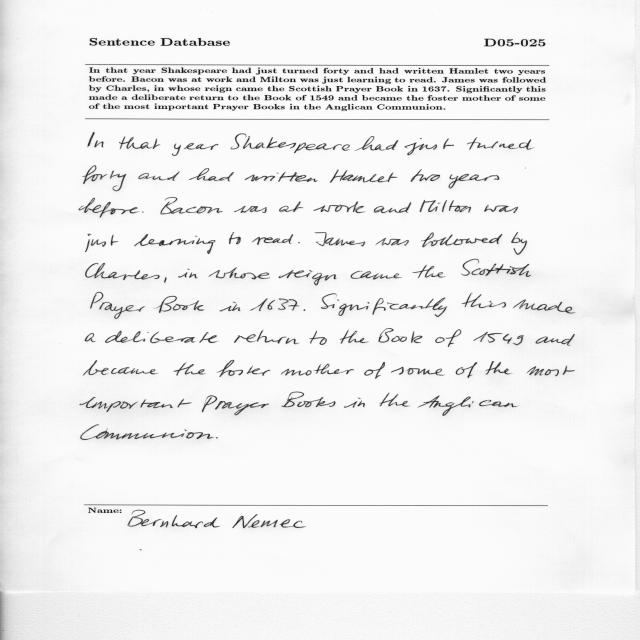word: (321, 293, 448, 317), (230, 134, 350, 154), (418, 395, 518, 416), (81, 425, 213, 440), (80, 397, 192, 412), (134, 234, 216, 254), (91, 292, 145, 319), (105, 331, 217, 343), (202, 396, 269, 416), (461, 259, 531, 277), (86, 263, 160, 280), (421, 233, 502, 248), (79, 198, 139, 218), (83, 360, 158, 376), (83, 166, 126, 192), (160, 198, 223, 215), (330, 169, 397, 183), (217, 360, 270, 377), (467, 137, 534, 150), (279, 270, 337, 285), (513, 300, 575, 314), (234, 331, 299, 344), (405, 138, 454, 155), (156, 296, 204, 313), (282, 392, 336, 407), (281, 364, 354, 375), (209, 267, 270, 280), (316, 232, 366, 247), (245, 172, 318, 182), (449, 174, 500, 188), (473, 332, 524, 345), (355, 136, 399, 151), (379, 328, 423, 343), (250, 298, 300, 311), (313, 201, 365, 213), (462, 294, 506, 308), (420, 200, 471, 212), (172, 143, 218, 156), (85, 234, 118, 252), (189, 168, 234, 181), (119, 136, 160, 149), (527, 366, 575, 377), (535, 334, 575, 346), (436, 329, 462, 347), (252, 234, 293, 245), (379, 393, 410, 407), (391, 367, 445, 375), (173, 363, 206, 376), (138, 171, 180, 181), (413, 265, 445, 278), (351, 271, 402, 279), (374, 202, 411, 213), (340, 330, 369, 344), (411, 169, 440, 182), (511, 232, 527, 255), (486, 361, 512, 375), (364, 362, 385, 379), (456, 362, 477, 378), (484, 205, 518, 213), (279, 201, 303, 212), (376, 238, 409, 246), (310, 331, 327, 345), (234, 206, 267, 213), (88, 133, 103, 148), (220, 302, 241, 312), (344, 398, 365, 408), (178, 269, 198, 279), (229, 232, 241, 244), (85, 333, 96, 342), (164, 277, 166, 283), (304, 309, 306, 311), (142, 212, 144, 213), (298, 242, 300, 243), (216, 438, 218, 439)
